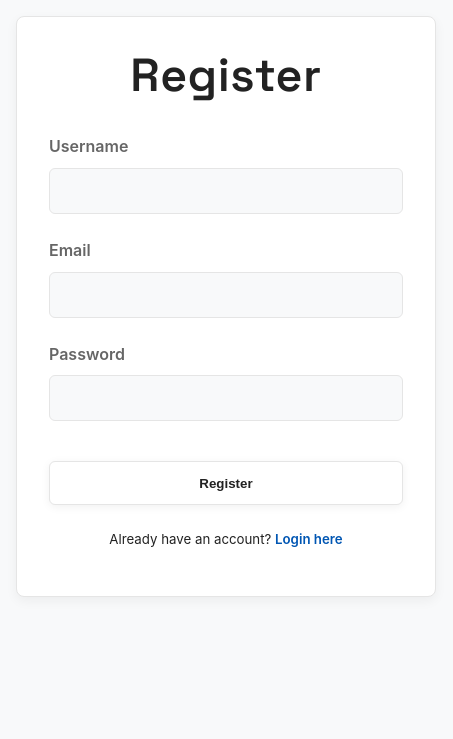
Test: UserRegisterPage › should validate password length
Type "testuser" into the field labelled "Username" at (226, 191), box [49, 168, 403, 214]
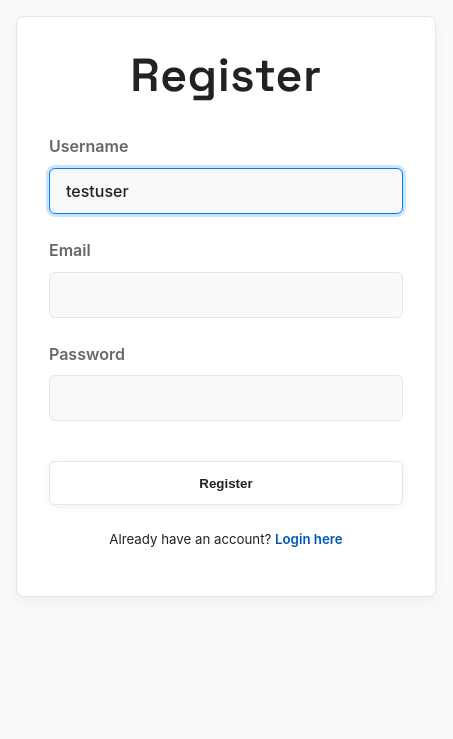
Type "test@example.com" into the field labelled "Email" at (226, 294), box [49, 272, 403, 318]
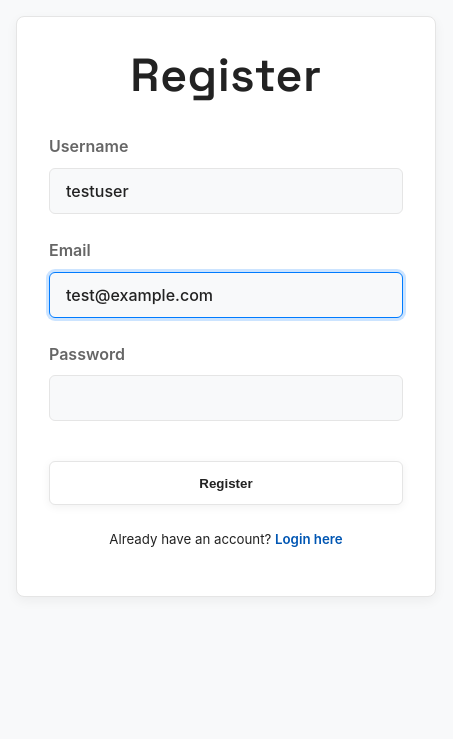
Type "12345" into the password field labelled "Password" at (226, 398), box [49, 375, 403, 421]
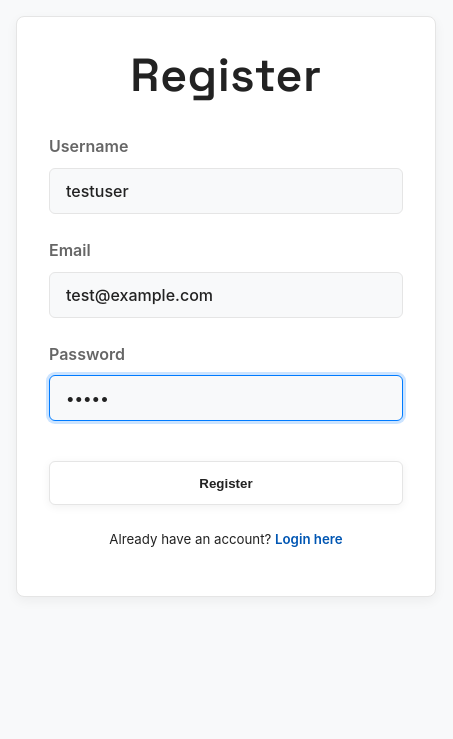
Click the button "Register" at (226, 483), box [49, 461, 403, 505]
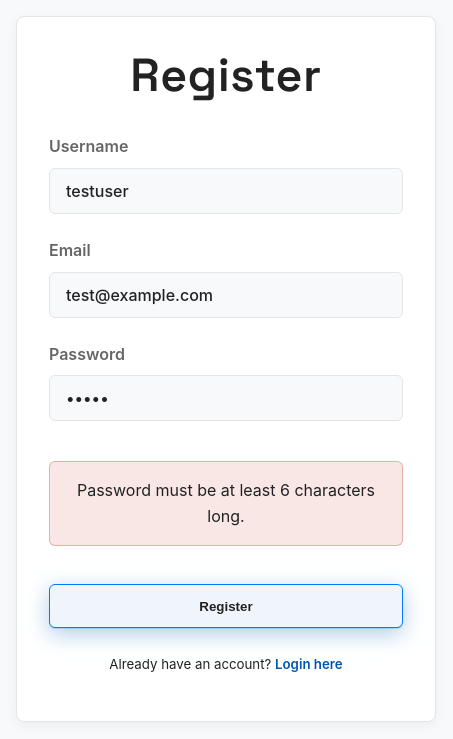
Result: the text "Password must be at least 6 characters long." is shown at [49, 461, 403, 546]
